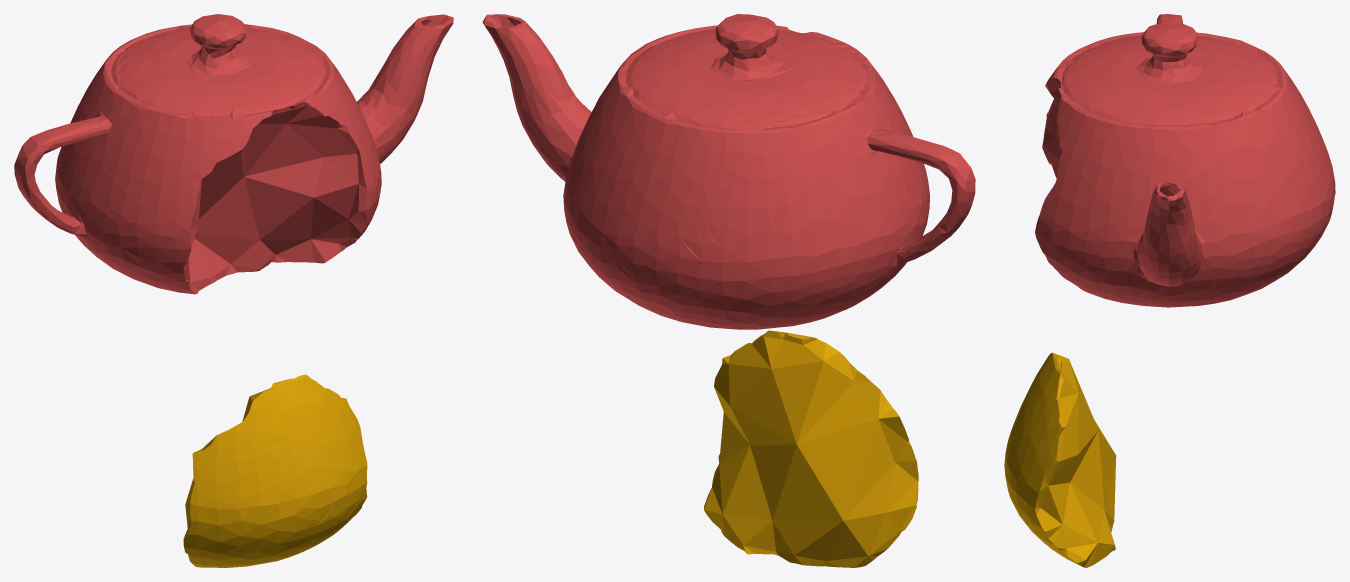
The model's file is fractured_16_2pcs_transformed.glb.
3 views of the same model, side by side, from view 1: azimuth 30°, elevation 25°; view 2: azimuth 150°, elevation 25°; view 3: azimuth 270°, elevation 25° (orthographic). The views are drawn at different scales.
Visible parts, largest first — view 1: piece_1.obj, piece_0.obj; view 2: piece_1.obj, piece_0.obj; view 3: piece_1.obj, piece_0.obj.
Part boxes in pixels (<box>): piece_1.obj: <box>14,14,453,294</box>; piece_0.obj: <box>183,374,367,567</box>; piece_1.obj: <box>482,14,975,329</box>; piece_0.obj: <box>704,330,918,567</box>; piece_1.obj: <box>1035,14,1335,307</box>; piece_0.obj: <box>1004,352,1116,567</box>.
Bounding box in the file's own units: 1 × 1.1 × 0.6513.
